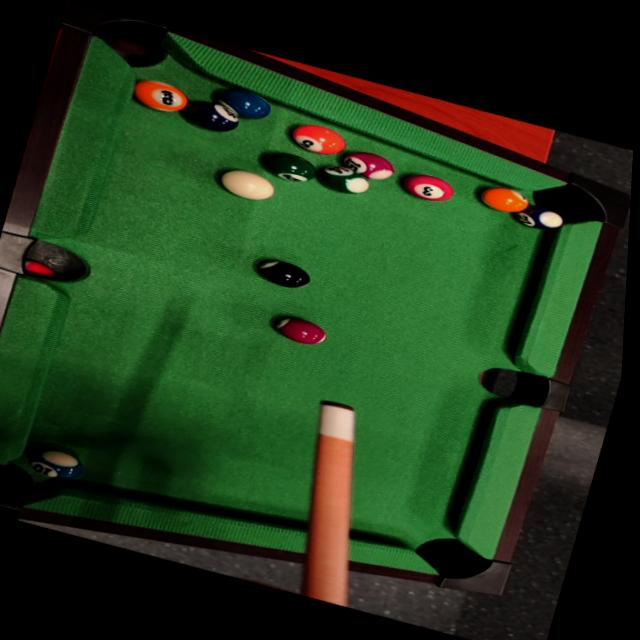cue ball: (211, 163, 280, 206)
other: (19, 439, 95, 488), (117, 72, 196, 119), (288, 118, 354, 163), (252, 145, 321, 188), (175, 94, 244, 137), (392, 165, 460, 208), (210, 82, 276, 125), (334, 142, 397, 186), (507, 196, 570, 238), (310, 160, 373, 201), (267, 310, 331, 350), (252, 254, 314, 294), (476, 181, 531, 219)
